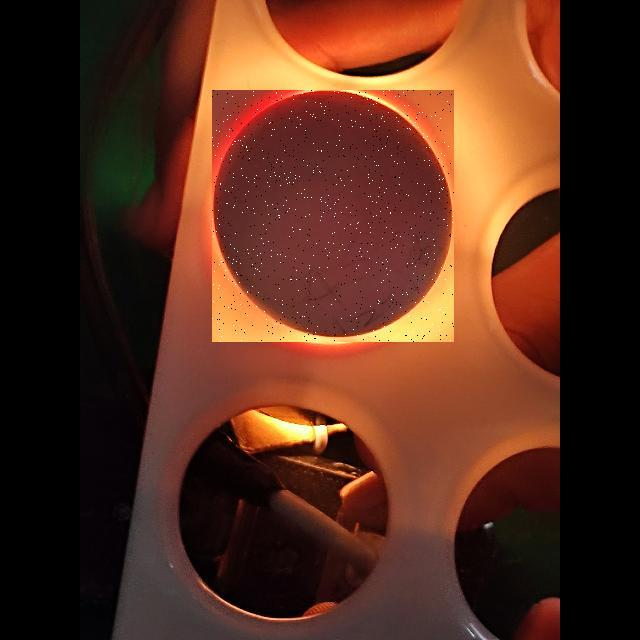Fertile: (212, 90, 454, 342)
